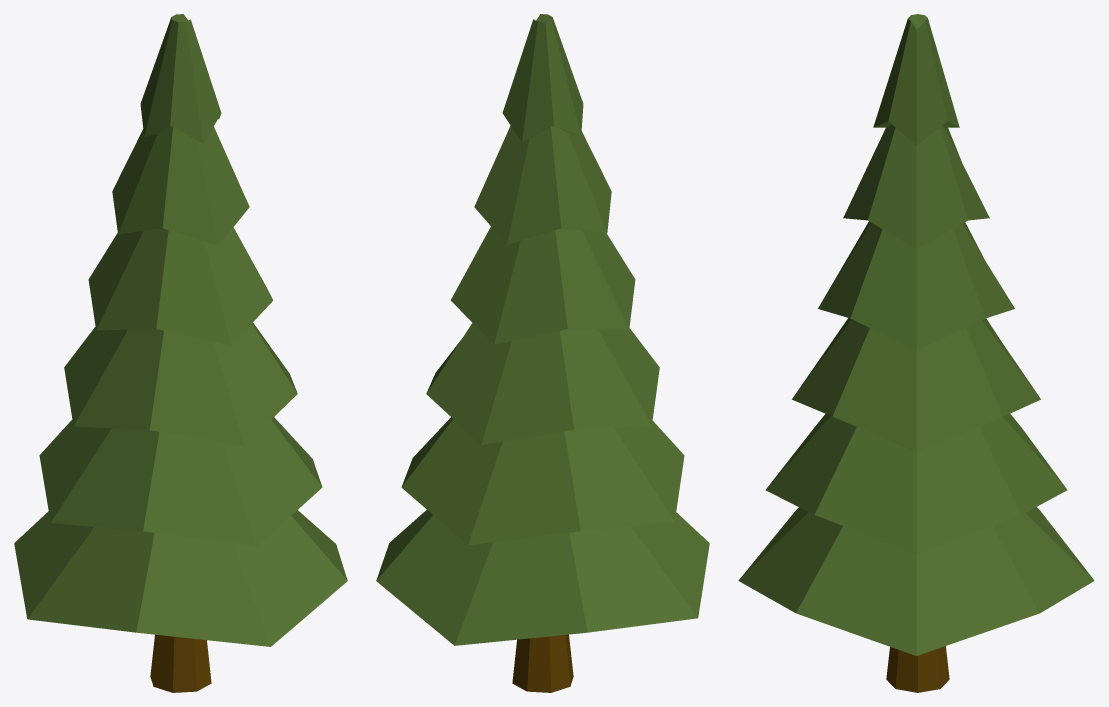
The model's file is treelowpoly.glb.
3 renders of one model, left to right at view 1: azimuth 30°, elevation 25°; view 2: azimuth 150°, elevation 25°; view 3: azimuth 270°, elevation 25°, orthographic.
Parts seen in each view (by area): view 1: Cylinder_Cylinder.001, Cylinder.001_Cylinder.002; view 2: Cylinder_Cylinder.001, Cylinder.001_Cylinder.002; view 3: Cylinder_Cylinder.001, Cylinder.001_Cylinder.002.
Boxes of the visible parts, x1,y1,x2,y2 form: Cylinder_Cylinder.001: [14, 14, 347, 646]; Cylinder.001_Cylinder.002: [150, 634, 211, 692]; Cylinder_Cylinder.001: [376, 14, 709, 645]; Cylinder.001_Cylinder.002: [512, 634, 573, 692]; Cylinder_Cylinder.001: [738, 14, 1094, 655]; Cylinder.001_Cylinder.002: [886, 646, 949, 692].
Size of the model in its own units: 3.68 by 7.54 by 3.68.
